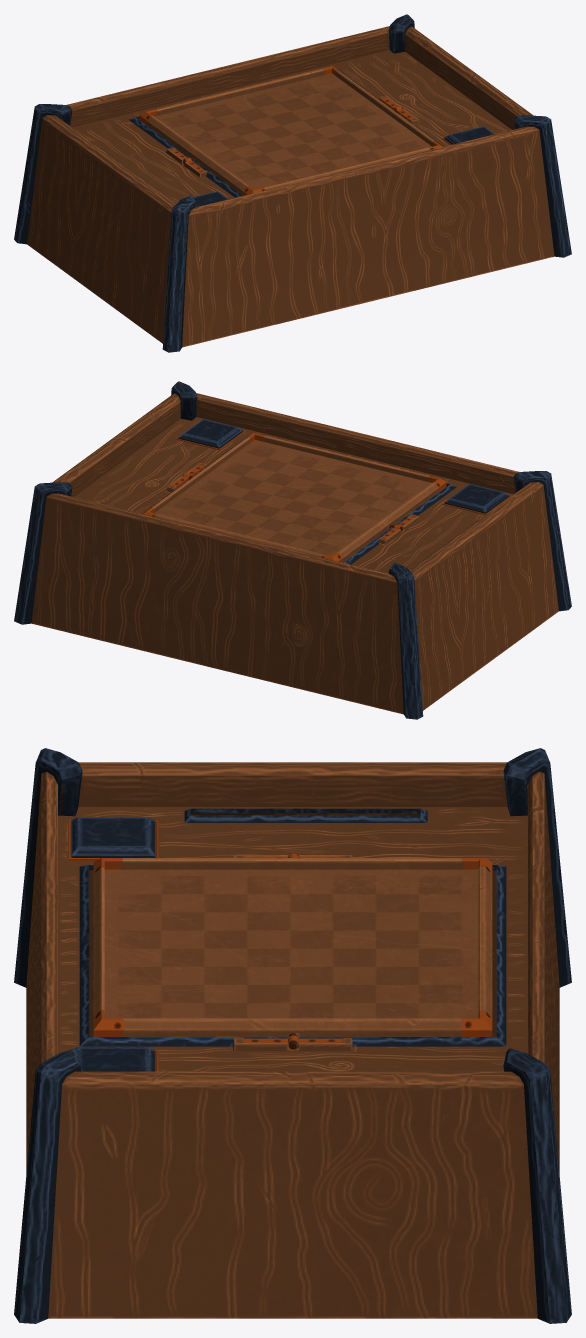
File: EZ_OuterBoardV5.fbx
3 renders of one model, top to bottom at view 1: azimuth 30°, elevation 25°; view 2: azimuth 150°, elevation 25°; view 3: azimuth 270°, elevation 25°, orthographic. The views are drawn at different scales.
Parts seen in each view (by area): view 1: Base, SpinFrame, PauseButtons; view 2: Base, SpinFrame, PauseButtons; view 3: Base, SpinFrame, PauseButtons.
Part boxes in pixels (x1,y1,x2,y2): Base: (14, 14, 571, 352); SpinFrame: (139, 66, 442, 195); PauseButtons: (176, 126, 495, 206); Base: (14, 381, 571, 719); SpinFrame: (143, 433, 446, 562); PauseButtons: (175, 419, 511, 514); Base: (14, 748, 571, 1323); SpinFrame: (93, 858, 492, 1049); PauseButtons: (68, 817, 158, 1071).
Bounding box in the file's own units: 702 × 226 × 472.
